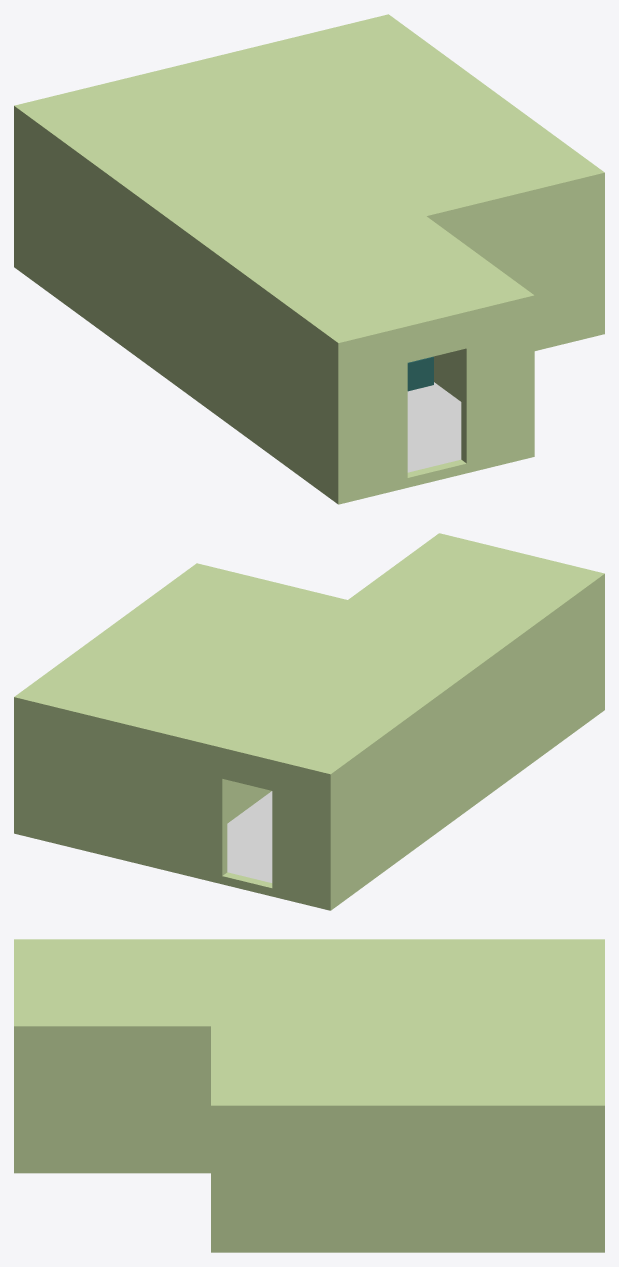
The model's file is Raum1.fbx.
3 renders of one model, top to bottom at view 1: azimuth 30°, elevation 25°; view 2: azimuth 150°, elevation 25°; view 3: azimuth 270°, elevation 25°, orthographic. The views are drawn at different scales.
Visible parts, largest first — view 1: Wände/Boden1, Bank1; view 2: Wände/Boden1; view 3: Wände/Boden1.
Boxes of the visible parts, x1,y1,x2,y2 form: Wände/Boden1: (14,14,604,504); Bank1: (407,356,433,391); Wände/Boden1: (14,533,604,910); Wände/Boden1: (14,939,604,1252).
Bounding box in the file's own units: 800 × 330 × 1200.
